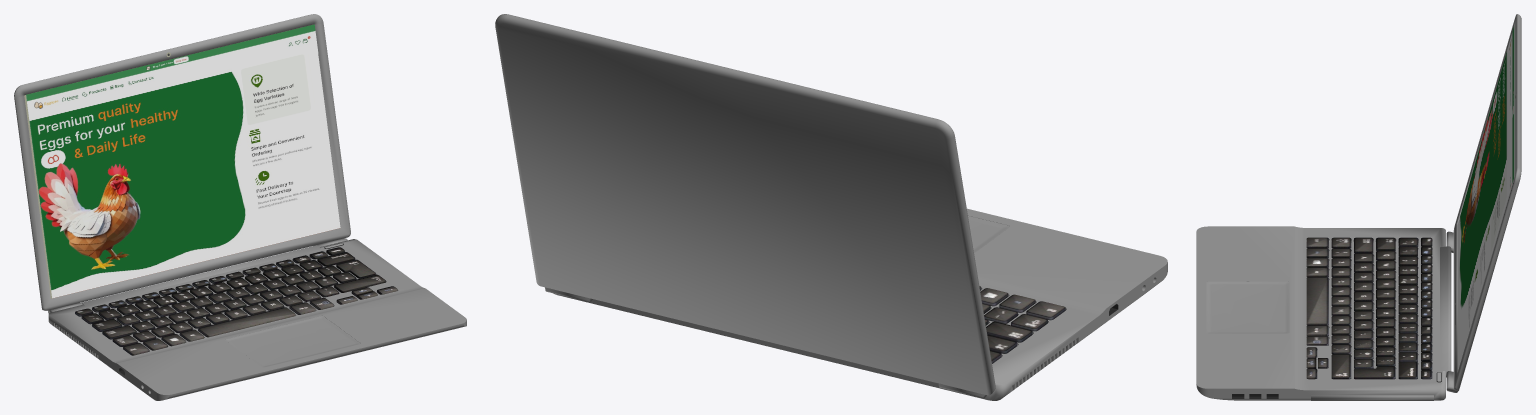
Rendered from egg.glb.
3 views of the same model, side by side, from view 1: azimuth 30°, elevation 25°; view 2: azimuth 150°, elevation 25°; view 3: azimuth 270°, elevation 25° (orthographic). The views are drawn at different scales.
Visible parts, largest first — view 1: screen.001, Laptop, keyboard, screen; view 2: screen, Laptop, keyboard; view 3: Laptop, keyboard, screen.001, screen.
Part boxes in pixels (x1=…): screen.001: x1=26, y1=24, x2=340, y2=298; Laptop: x1=48, y1=239, x2=466, y2=400; keyboard: x1=75, y1=247, x2=397, y2=355; screen: x1=14, y1=14, x2=350, y2=313; screen: x1=495, y1=14, x2=995, y2=398; Laptop: x1=553, y1=208, x2=1167, y2=400; keyboard: x1=979, y1=286, x2=1065, y2=363; Laptop: x1=1196, y1=226, x2=1451, y2=400; keyboard: x1=1306, y1=237, x2=1432, y2=379; screen.001: x1=1457, y1=26, x2=1514, y2=371; screen: x1=1446, y1=14, x2=1521, y2=392.
Bounding box in the file's own units: 4 × 2.65 × 3.38.
7 materials, 2 textured.
